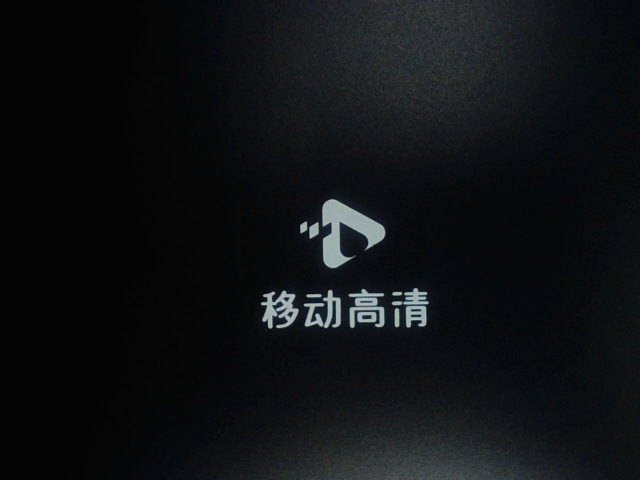AO_MobileHD: (239, 190, 442, 355)
